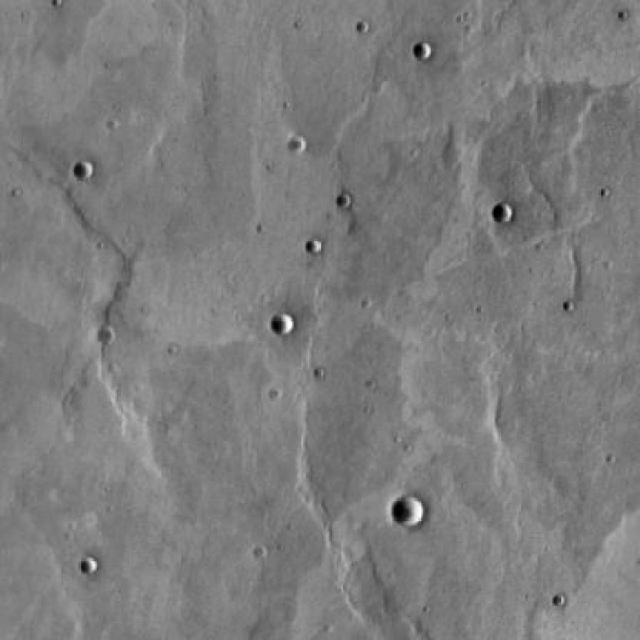crater: (386, 493, 419, 524), (273, 313, 295, 335), (495, 202, 516, 223), (285, 136, 307, 156), (78, 558, 98, 578), (76, 160, 93, 178), (96, 328, 112, 346), (418, 41, 434, 58), (308, 240, 323, 255)
